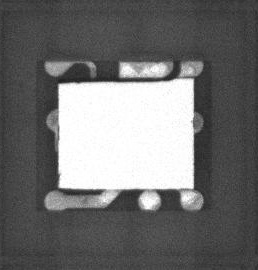DIE_BROKEN: (58, 76, 175, 83)
